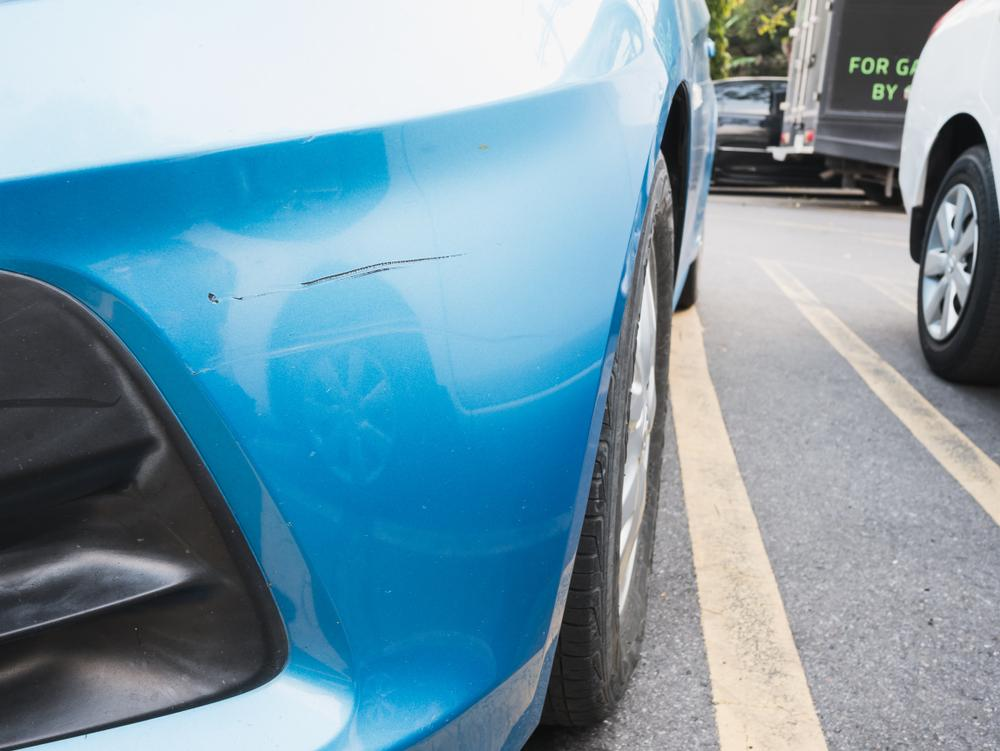scratch: (214, 244, 474, 305)
